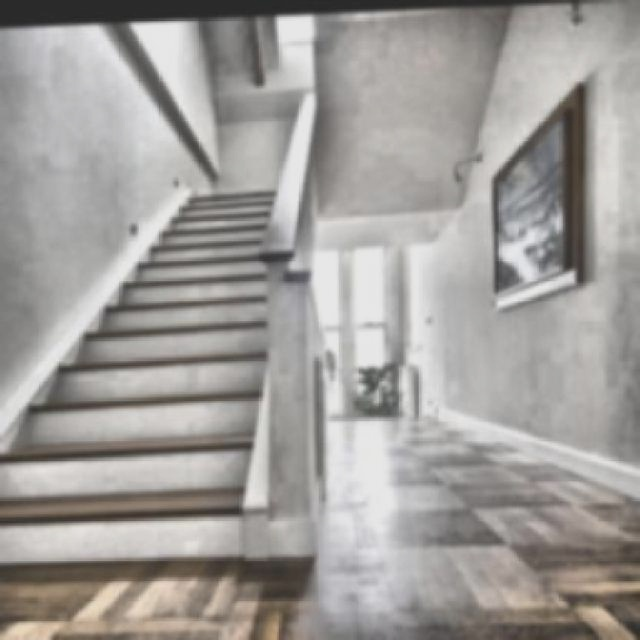stair: (0, 132, 311, 514)
